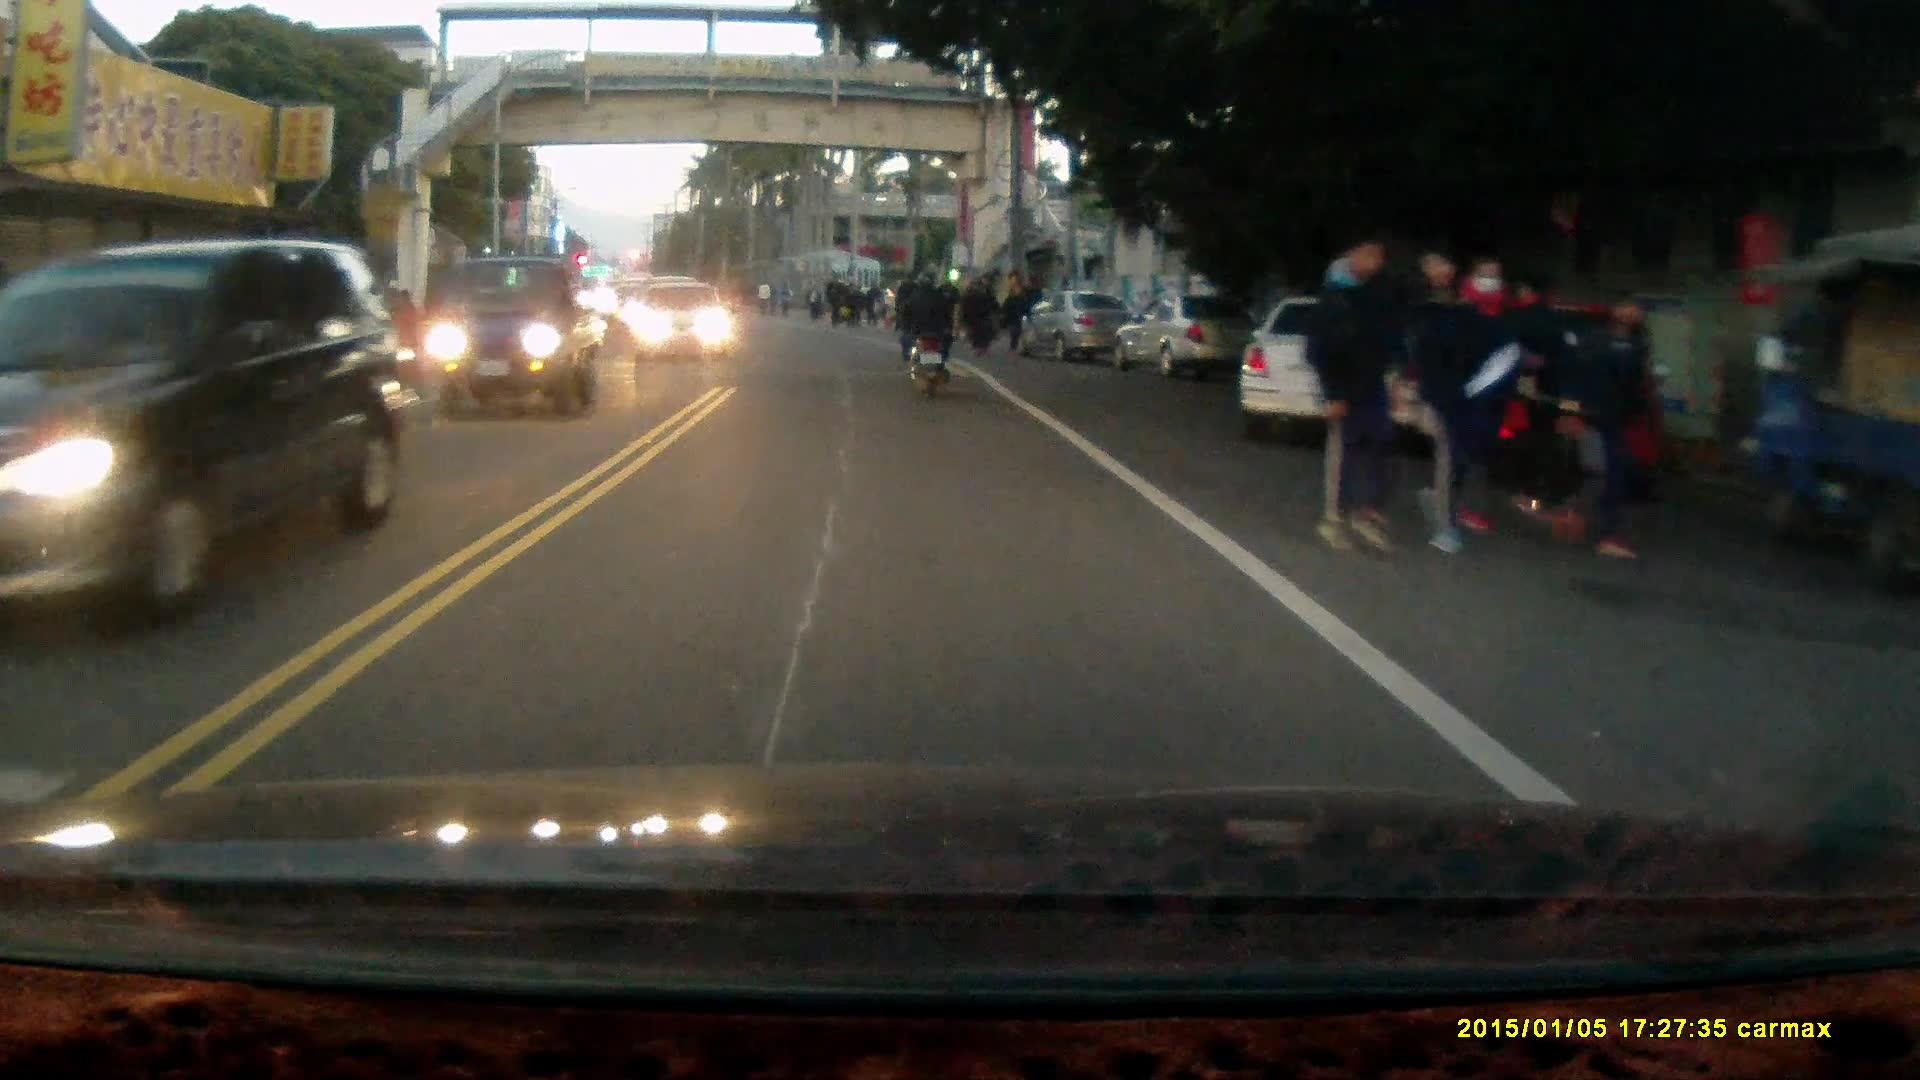pedestrian: (1299, 223, 1414, 561), (1408, 242, 1527, 557), (1484, 272, 1583, 530), (1566, 283, 1653, 563), (1440, 255, 1524, 533), (970, 265, 999, 350), (962, 276, 988, 357), (999, 280, 1027, 351)
rider: (888, 265, 954, 396)
vehicle: (1, 241, 423, 616), (1237, 287, 1456, 441), (433, 261, 604, 420), (1119, 288, 1249, 380), (1017, 290, 1142, 362), (634, 282, 734, 362)
